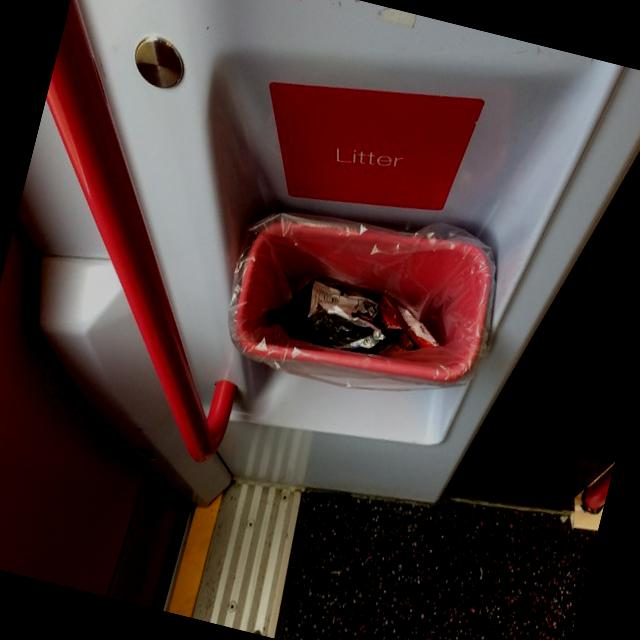Trash: (218, 207, 504, 390)
